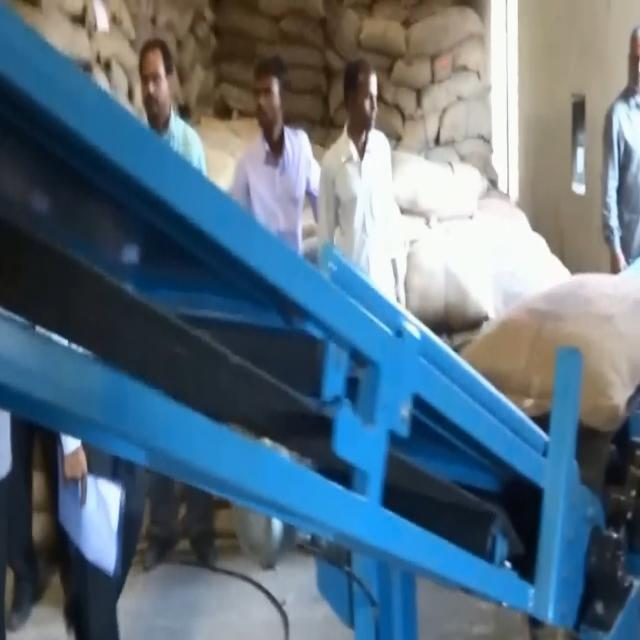gunny_bag: (463, 279, 640, 436), (403, 6, 493, 56), (358, 13, 414, 57), (279, 10, 331, 55), (391, 49, 438, 96), (282, 91, 329, 129)
